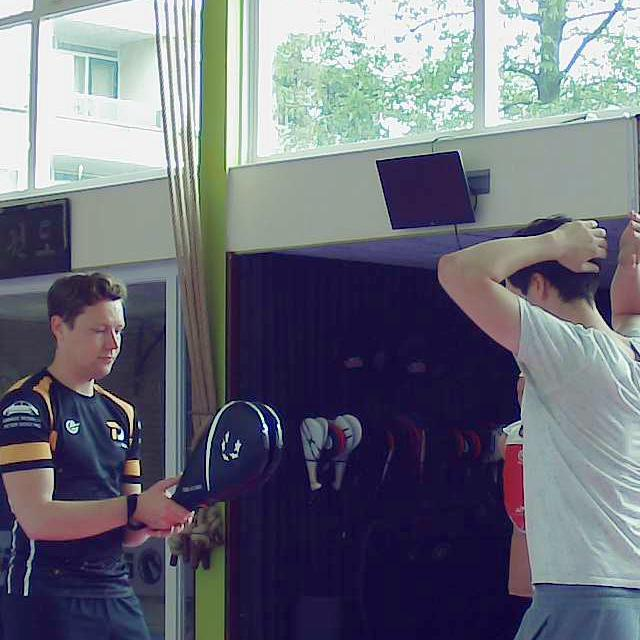paddle: (171, 399, 283, 512)
